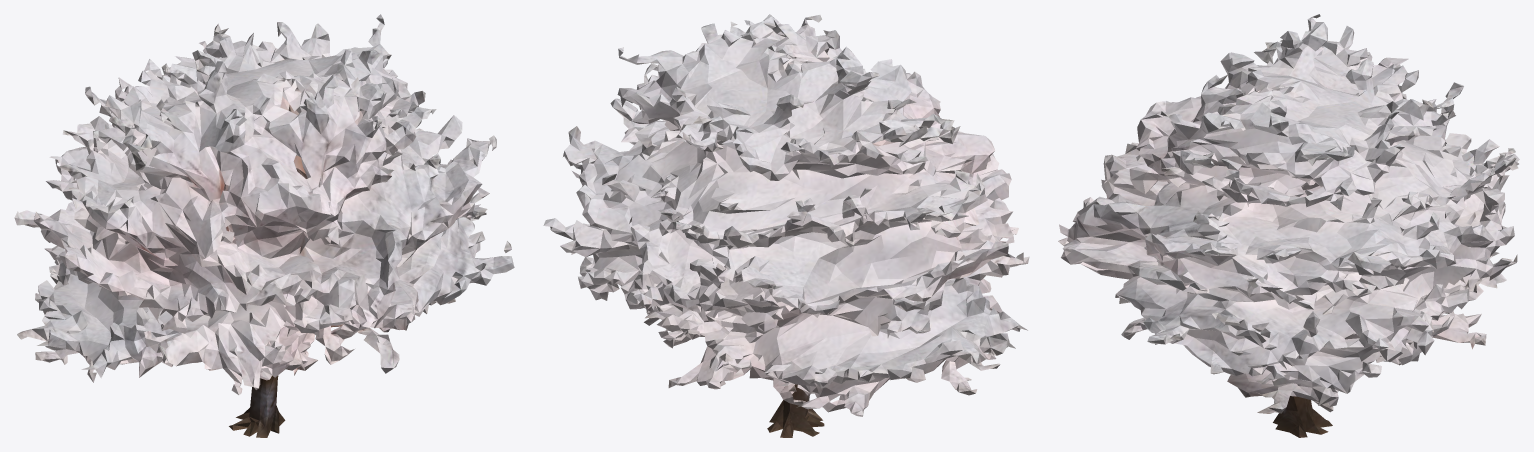
3 renders of one model, left to right at view 1: azimuth 30°, elevation 25°; view 2: azimuth 150°, elevation 25°; view 3: azimuth 270°, elevation 25°, orthographic. The views are drawn at different scales.
Parts seen in each view (by area): view 1: model; view 2: model; view 3: model.
Boxes of the visible parts, x1,y1,x2,y2 form: model: [14, 14, 514, 437]; model: [543, 14, 1029, 437]; model: [1058, 14, 1519, 437].
Size of the model in its own units: 1.9 by 1.61 by 1.8.
Materials: 1 (1 with a texture image).
